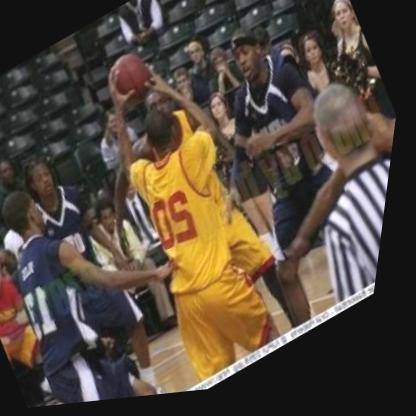basketball: (95, 43, 167, 114)
